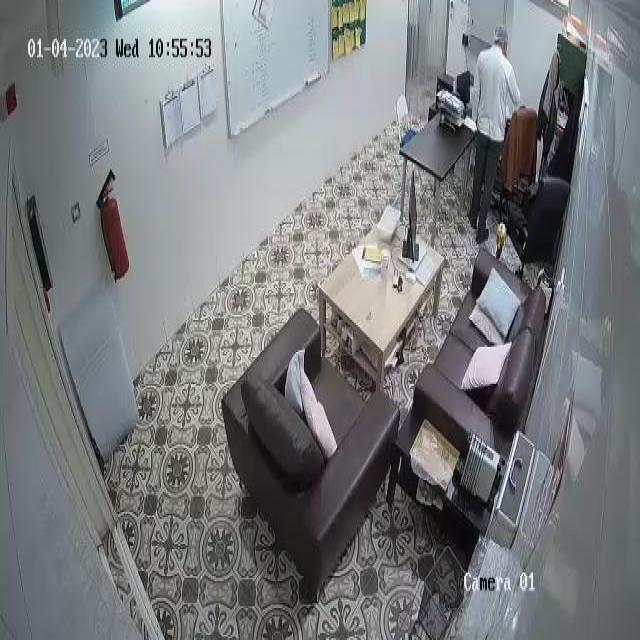hairnet: (494, 22, 509, 48)
